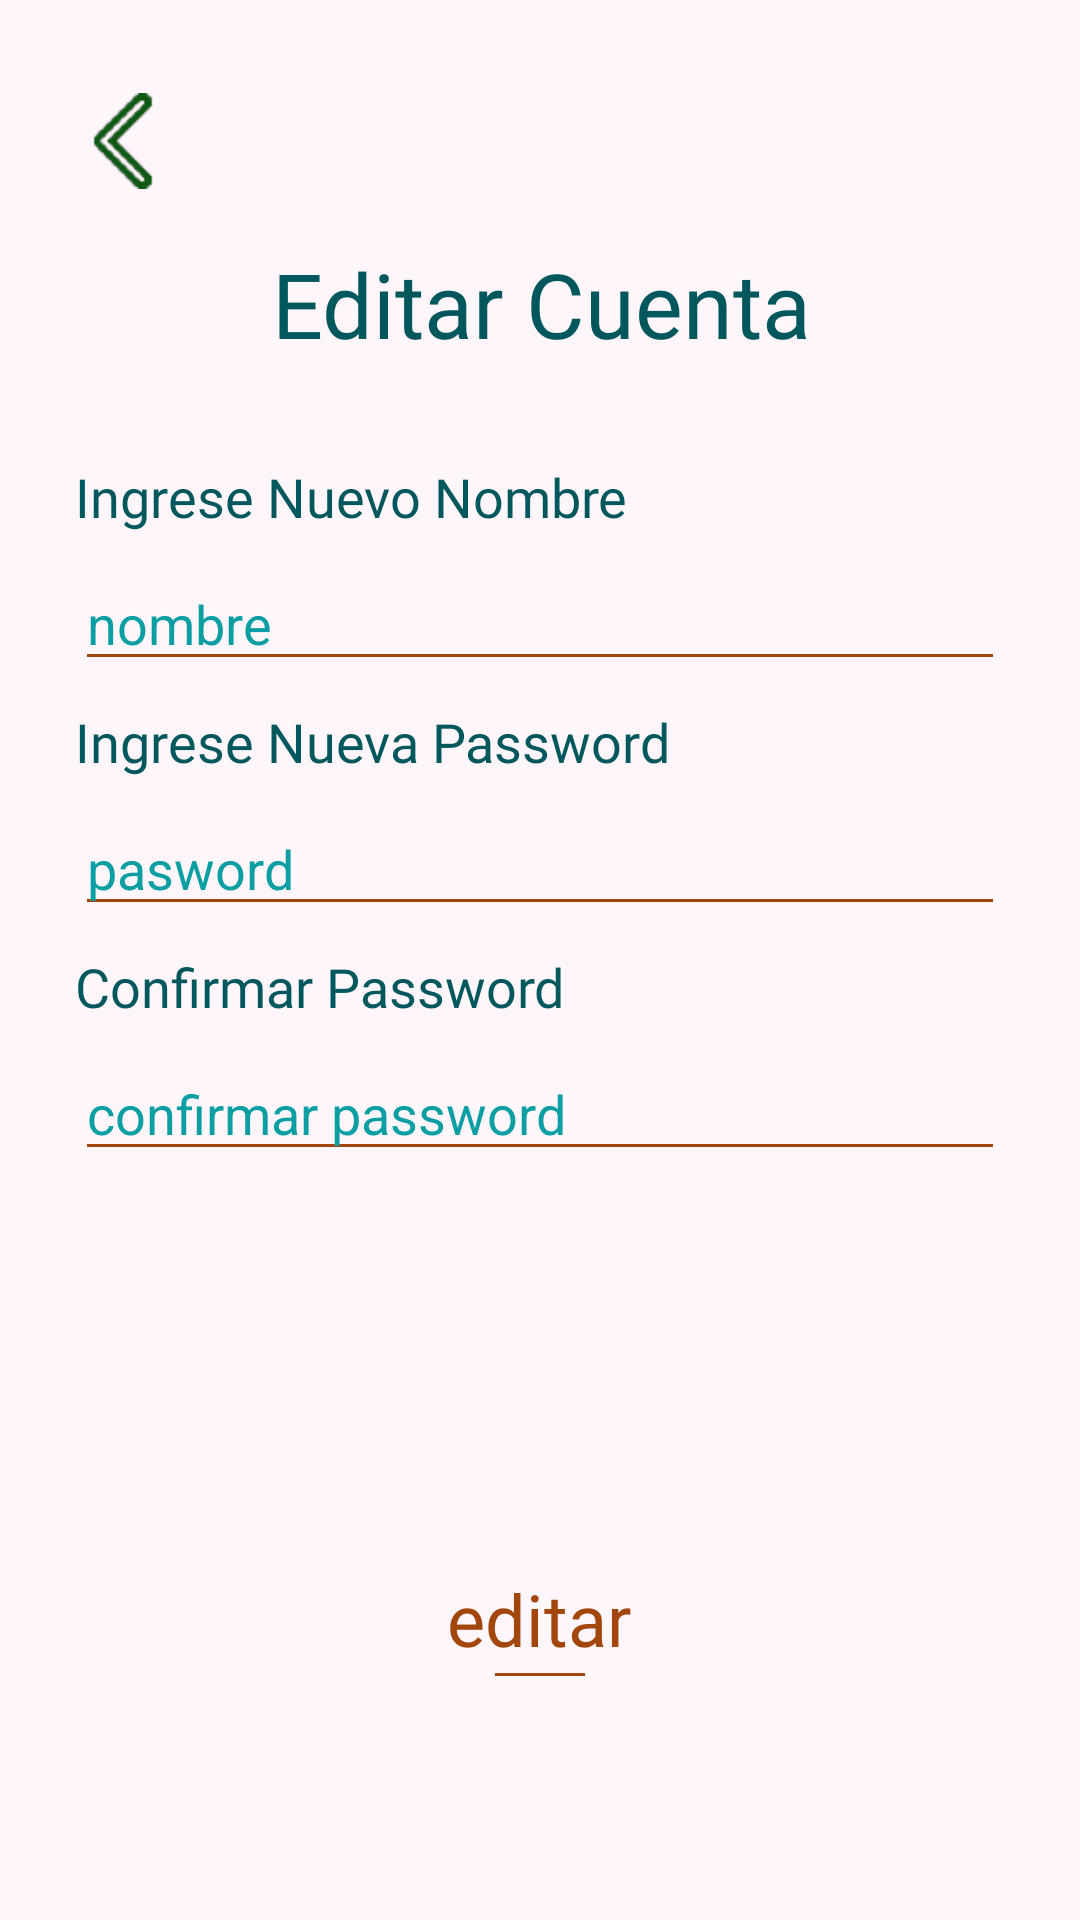

Screen size 1080w x 1920h. Icon name, then its box in pixels as [x1=x1, y1=y1, x2=x2, y2=y2]:
flecha: [x1=93, y1=93, x2=153, y2=189]
